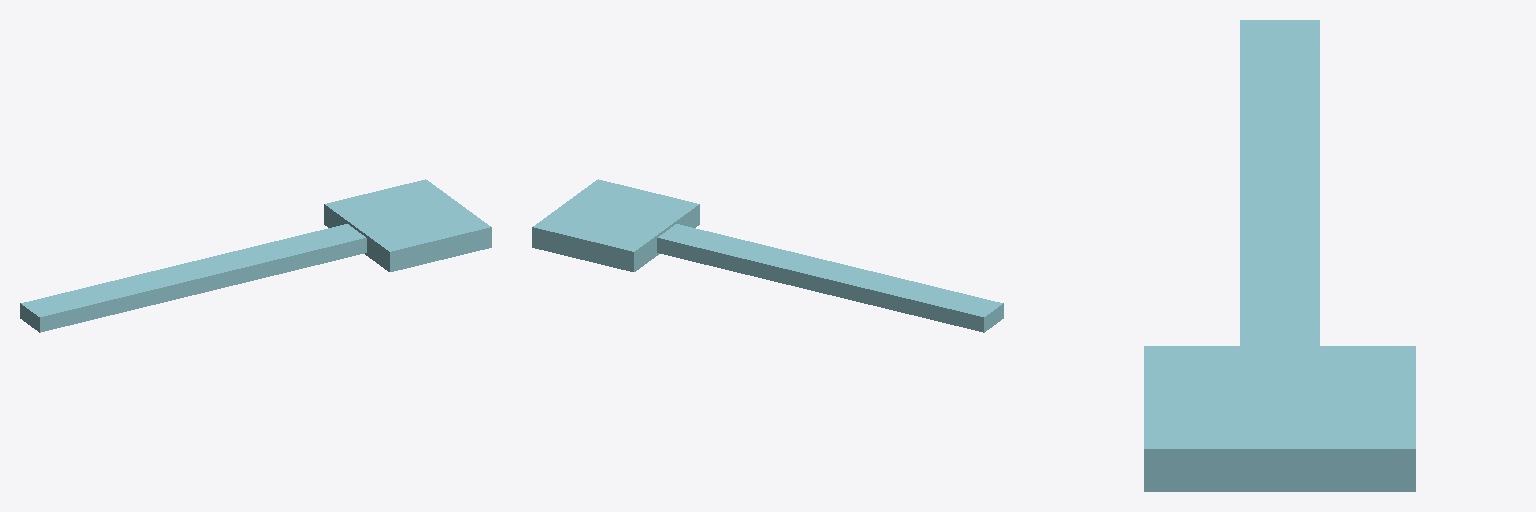
robot.urdf — cuboid_spatula_v5008:
<?xml version="1.0"?>
<robot name="cuboid_spatula_v5008">

  <link name="cuboid_spatula_v5008">
    <!-- Handle -->
    <visual>
      <origin xyz="0 0 0" rpy="0 0 0"/>
      <geometry>
        <box size="0.18373823623450686 0.018676770581467793 0.008201277762370101"/>
      </geometry>
      <material name="material">
        <color rgba="0.639 0.847 0.882 1.0"/>
      </material>
    </visual>
    <collision>
      <origin xyz="0 0 0" rpy="0 0 0"/>
      <geometry>
        <box size="0.18373823623450686 0.018676770581467793 0.008201277762370101"/>
      </geometry>
    </collision>

    <!-- Head -->
    <visual>
      <origin xyz="0.12047207547090061 0 0" rpy="0 0 0"/>
      <geometry>
        <box size="0.05720591470729437 0.06367972844157853 0.011111358338137558"/>
      </geometry>
      <material name="material">
        <color rgba="0.639 0.847 0.882 1.0"/>
      </material>
    </visual>
    <collision>
      <origin xyz="0.12047207547090061 0 0" rpy="0 0 0"/>
      <geometry>
        <box size="0.05720591470729437 0.06367972844157853 0.011111358338137558"/>
      </geometry>
    </collision>

    <inertial>
      <density value="400.0"/>
    </inertial>
  </link>

</robot>

--- What the picture shows (computed from the rendered views, not written in the file) ---
3 views of the same robot in one strip: view 1: azimuth 30°, elevation 25°; view 2: azimuth 150°, elevation 25°; view 3: azimuth 270°, elevation 25° (orthographic).
Robot: cuboid_spatula_v5008 — 1 links, 0 joints (none); root link cuboid_spatula_v5008; default pose: all joints at 0.
Links seen in each view (by area): view 1: cuboid_spatula_v5008; view 2: cuboid_spatula_v5008; view 3: cuboid_spatula_v5008.
Boxes of the visible links, <box> form: cuboid_spatula_v5008: <box>20,179,491,332</box>; cuboid_spatula_v5008: <box>532,179,1003,332</box>; cuboid_spatula_v5008: <box>1144,20,1415,491</box>.
Size in the robot's own frame: 0.2409 by 0.0637 by 0.0111 metres.
Geometry: primitives only (box / cylinder / sphere), no mesh files.
